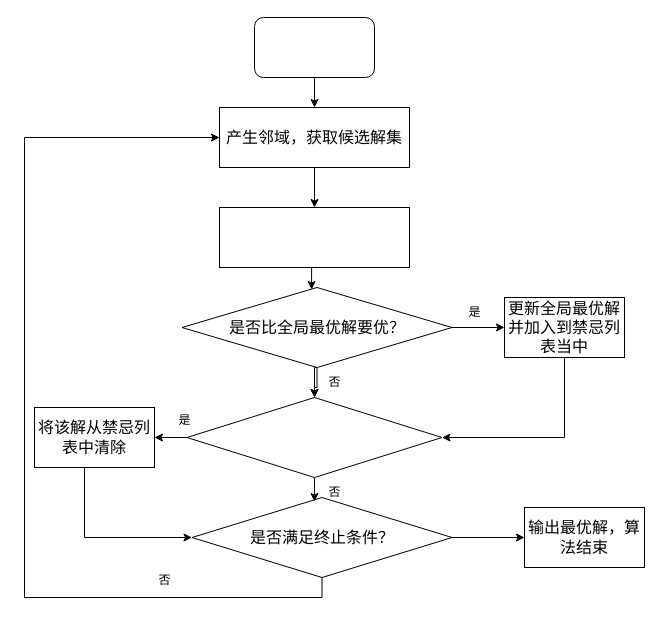
Some shapes in this 662 by 623 pixel diagram are drawn without their labels. Each missing label, with the centre of its shape:
产生初始解，禁忌列表清空: the point at 314,47
在候选解集中挑选出禁忌列表中不存在的最优解作为当前最优解: the point at 314,237
是否有解满足破禁条件 或者达到禁忌步长？: the point at 314,437
